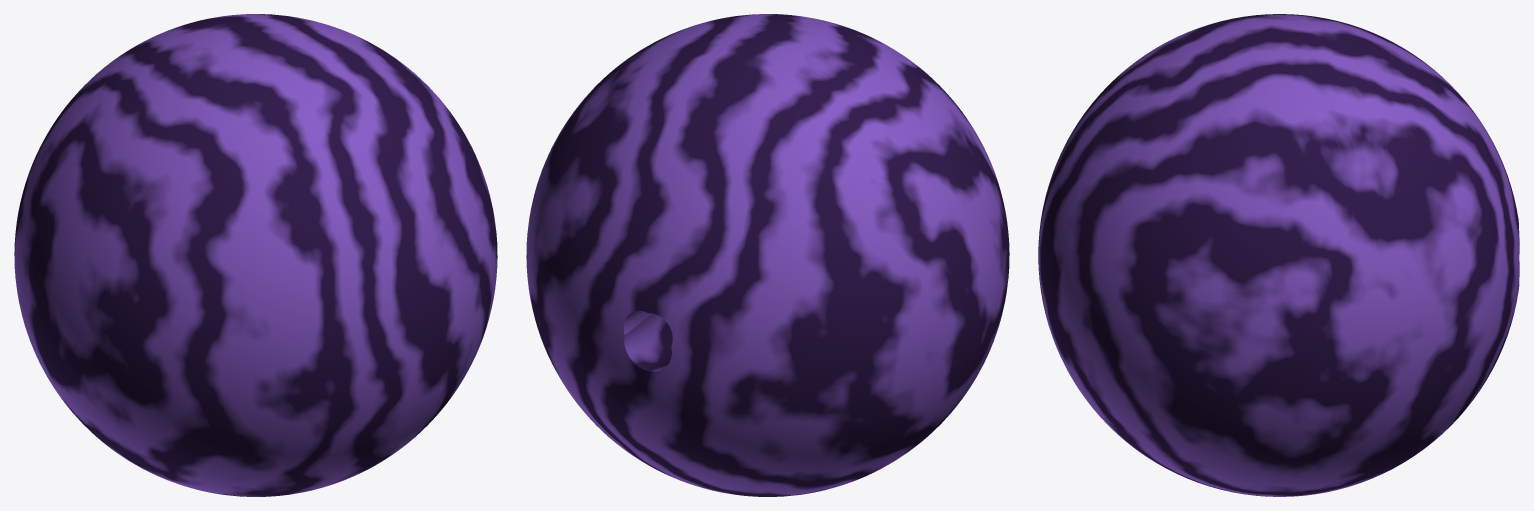
Rendered from piece_bowling.fbx.
3 renders of one model, left to right at view 1: azimuth 30°, elevation 25°; view 2: azimuth 150°, elevation 25°; view 3: azimuth 270°, elevation 25°, orthographic.
Parts seen in each view (by area): view 1: piece_bowling; view 2: piece_bowling; view 3: piece_bowling.
Part boxes in pixels (x1,y1,x2,y2): piece_bowling: [14, 14, 497, 496]; piece_bowling: [526, 14, 1009, 496]; piece_bowling: [1038, 14, 1519, 496].
Bounding box in the file's own units: 0.224 × 0.224 × 0.2233.
